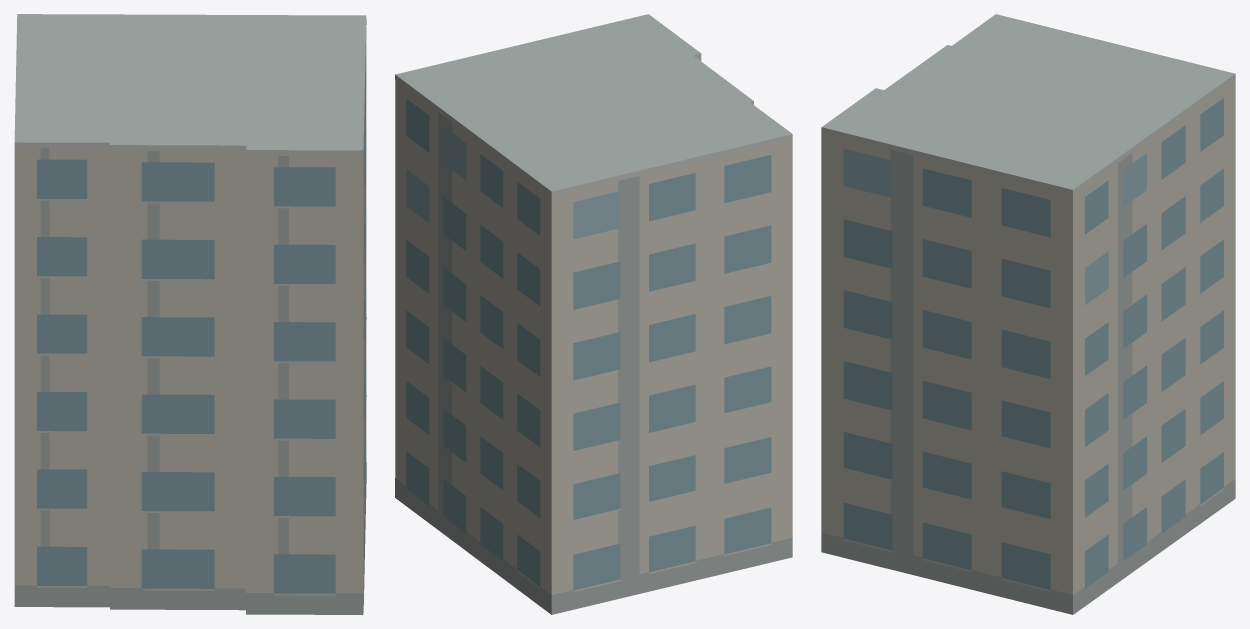
The model's file is survey-upis-32879341.glb.
The picture shows the model from 3 angles, left to right: view 1: azimuth 30°, elevation 25°; view 2: azimuth 150°, elevation 25°; view 3: azimuth 270°, elevation 25°; orthographic projection. The views are drawn at different scales.
Visible parts, largest first — view 1: survey-upis-32879341.tmp; view 2: survey-upis-32879341.tmp; view 3: survey-upis-32879341.tmp.
Part boxes in pixels (x1,y1,x2,y2): survey-upis-32879341.tmp: [14, 14, 366, 614]; survey-upis-32879341.tmp: [395, 14, 792, 614]; survey-upis-32879341.tmp: [821, 14, 1235, 614].
Size of the model in its own units: 17.41 by 19.6 by 17.32.
